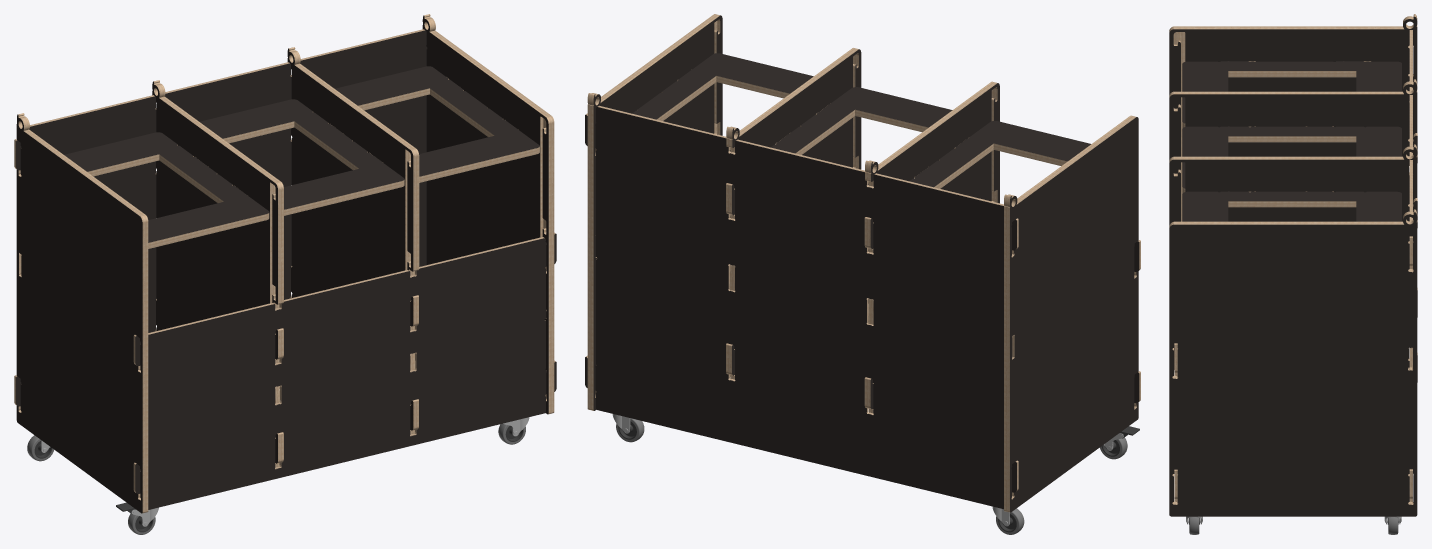
Rendered from Container-B3-Karkass_v2.glb.
3 views of the same model, side by side, from view 1: azimuth 30°, elevation 25°; view 2: azimuth 150°, elevation 25°; view 3: azimuth 270°, elevation 25° (orthographic). The views are drawn at different scales.
Visible parts, largest first — view 1: Shape031, Shape038 (×2), Shape043 (×2), Shape042 (×3), Shape032; view 2: Shape032, Shape038 (×2), Shape043 (×2), Shape042 (×3); view 3: Shape038 (×2), Shape043 (×2), Shape042 (×3), Shape032.
Part boxes in pixels (box(x1,y1,x2,y2)): Shape031: box(133, 232, 556, 509); Shape038 (×2): box(16, 14, 554, 513); Shape043 (×2): box(152, 47, 419, 467); Shape042 (×3): box(64, 66, 539, 248); Shape032: box(14, 29, 427, 406); Shape032: box(585, 105, 1018, 509); Shape038 (×2): box(587, 14, 1138, 512); Shape043 (×2): box(726, 48, 999, 413); Shape042 (×3): box(632, 53, 1090, 188); Shape038 (×2): box(1169, 14, 1417, 516); Shape043 (×2): box(1169, 79, 1417, 382); Shape042 (×3): box(1182, 61, 1401, 221); Shape032: box(1409, 30, 1412, 502).
Bounding box in the file's own units: 0.875 × 0.6661 × 0.4471.
Materials: 5 (1 with a texture image).
